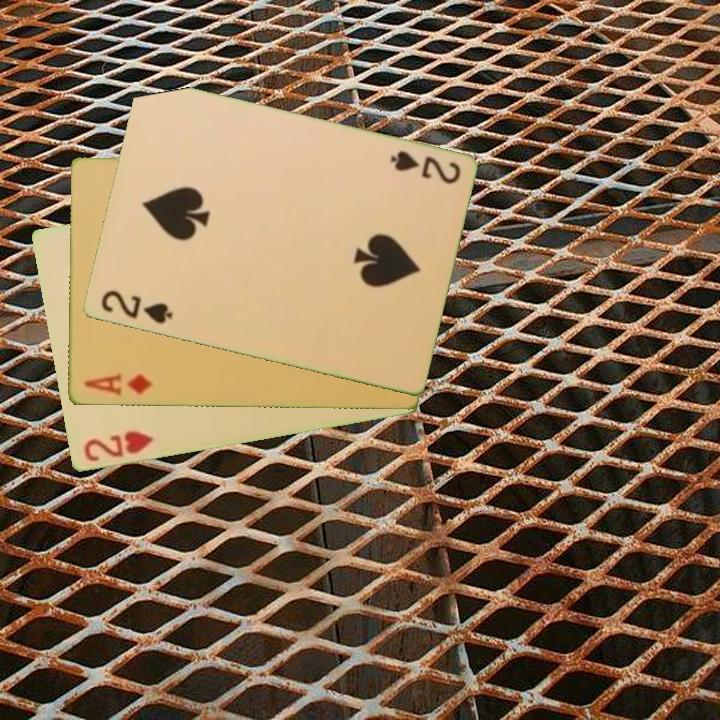2h: (80, 427, 157, 465)
2s: (386, 147, 463, 188), (97, 287, 175, 327)
Ad: (80, 370, 155, 399)
